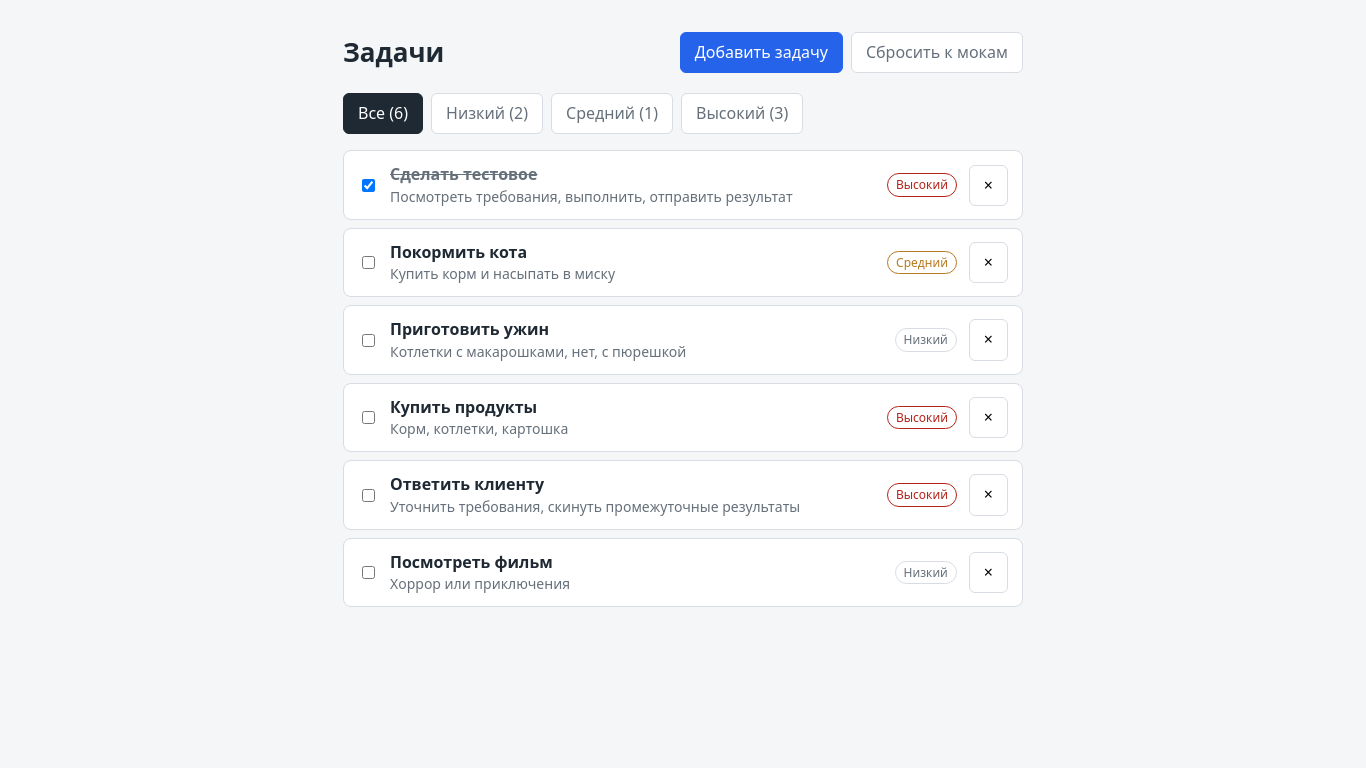
Scenario: App › показывает новую задачу в активном фильтре
Click the button "Высокий (3)".
click(742, 114)  # box [681,93,803,134]
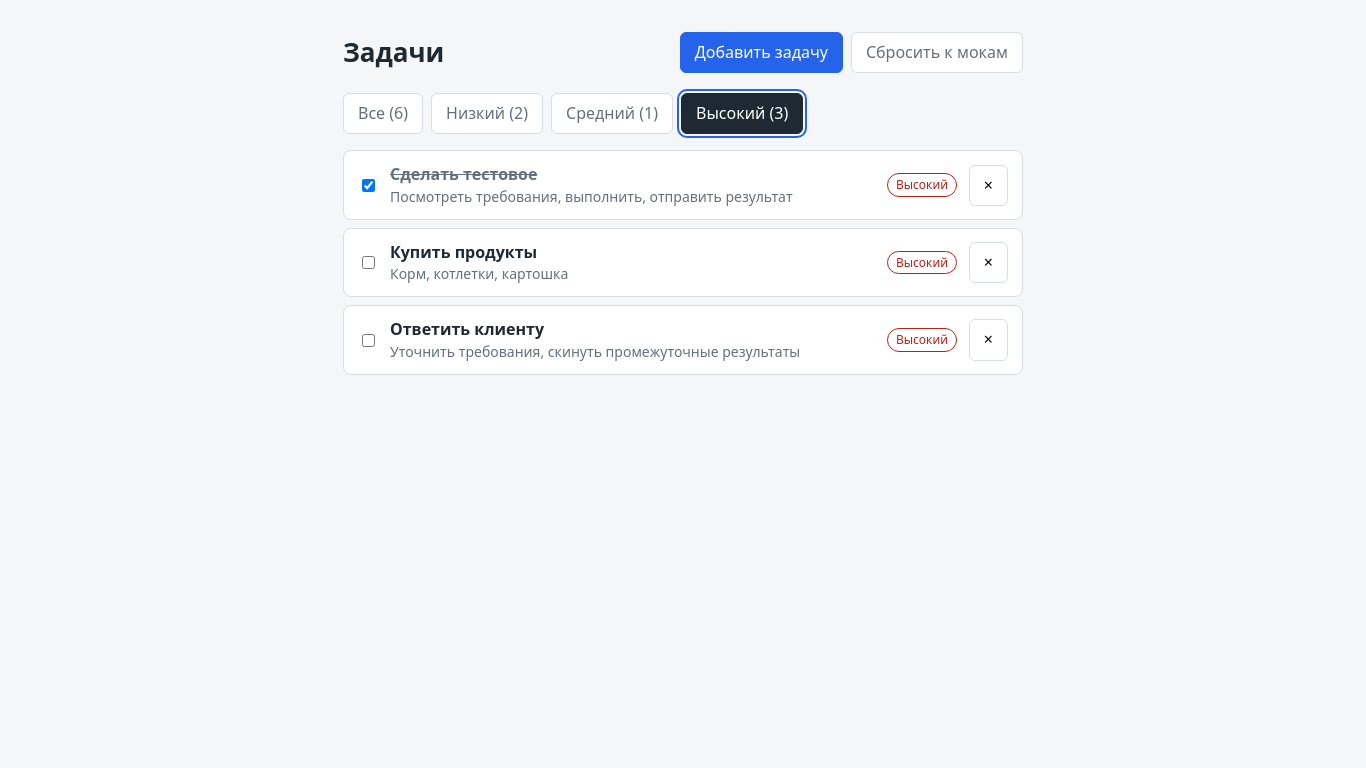
Click the button "Добавить задачу".
click(761, 53)  # box [680,32,843,73]
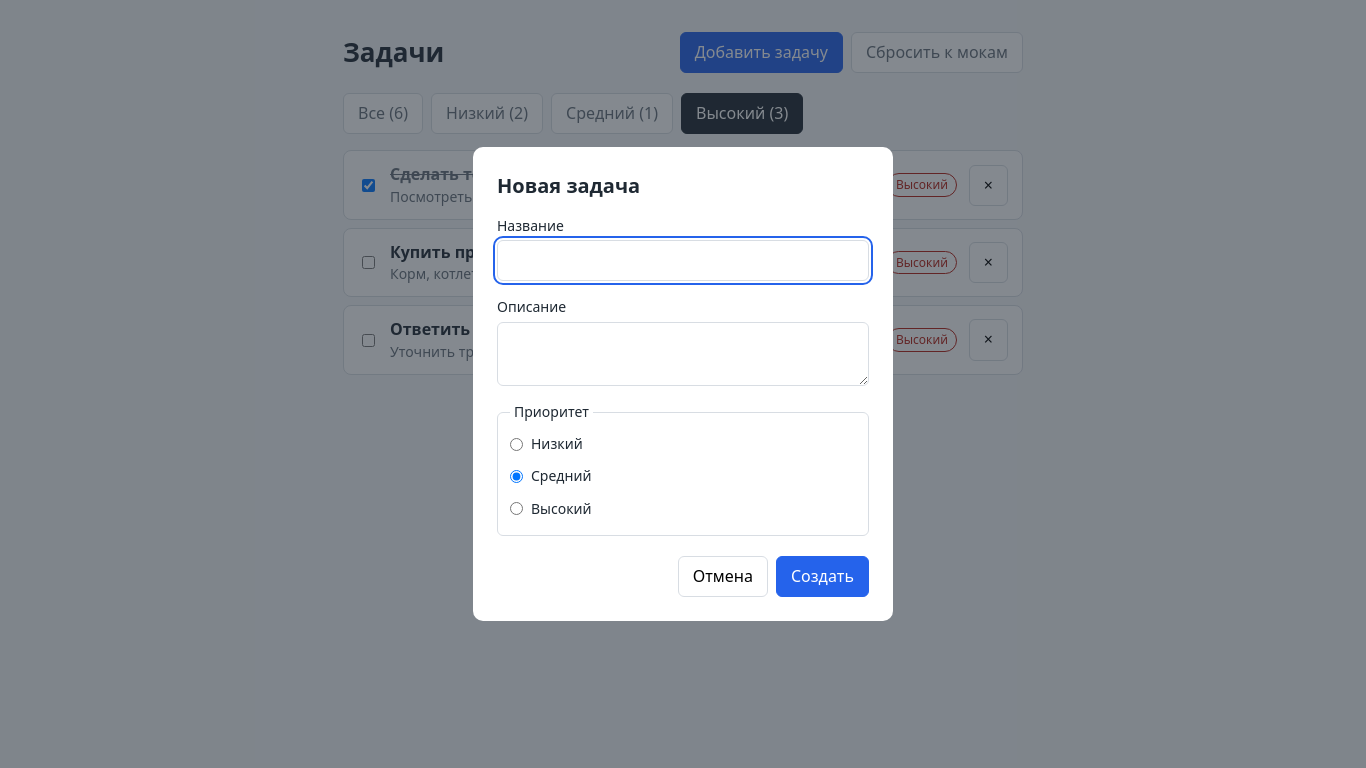
Type "Высокая задача" into the field labelled "Название".
click(683, 261); type("Высокая задача")  # box [497,240,869,281]
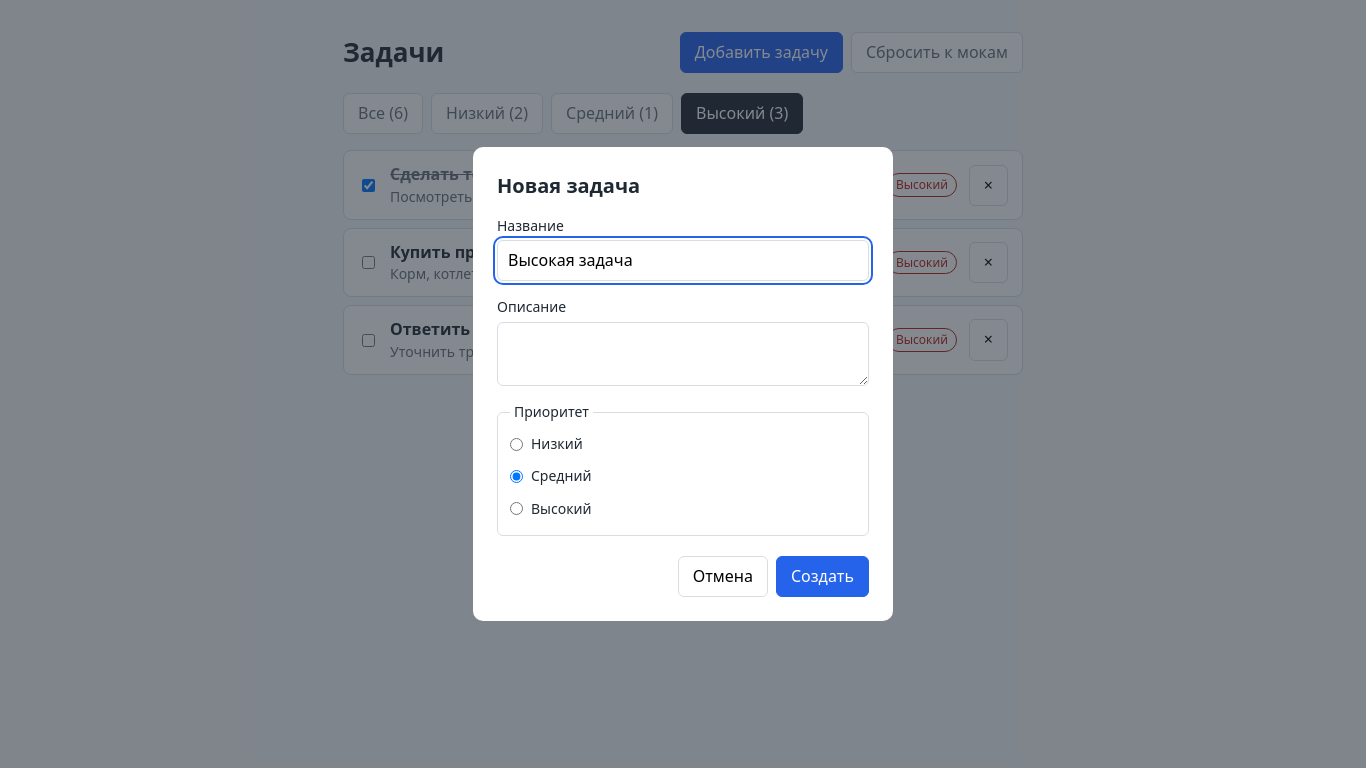
Type "Описание задачи" into the text box labelled "Описание".
click(683, 354); type("Описание задачи")  # box [497,322,869,386]
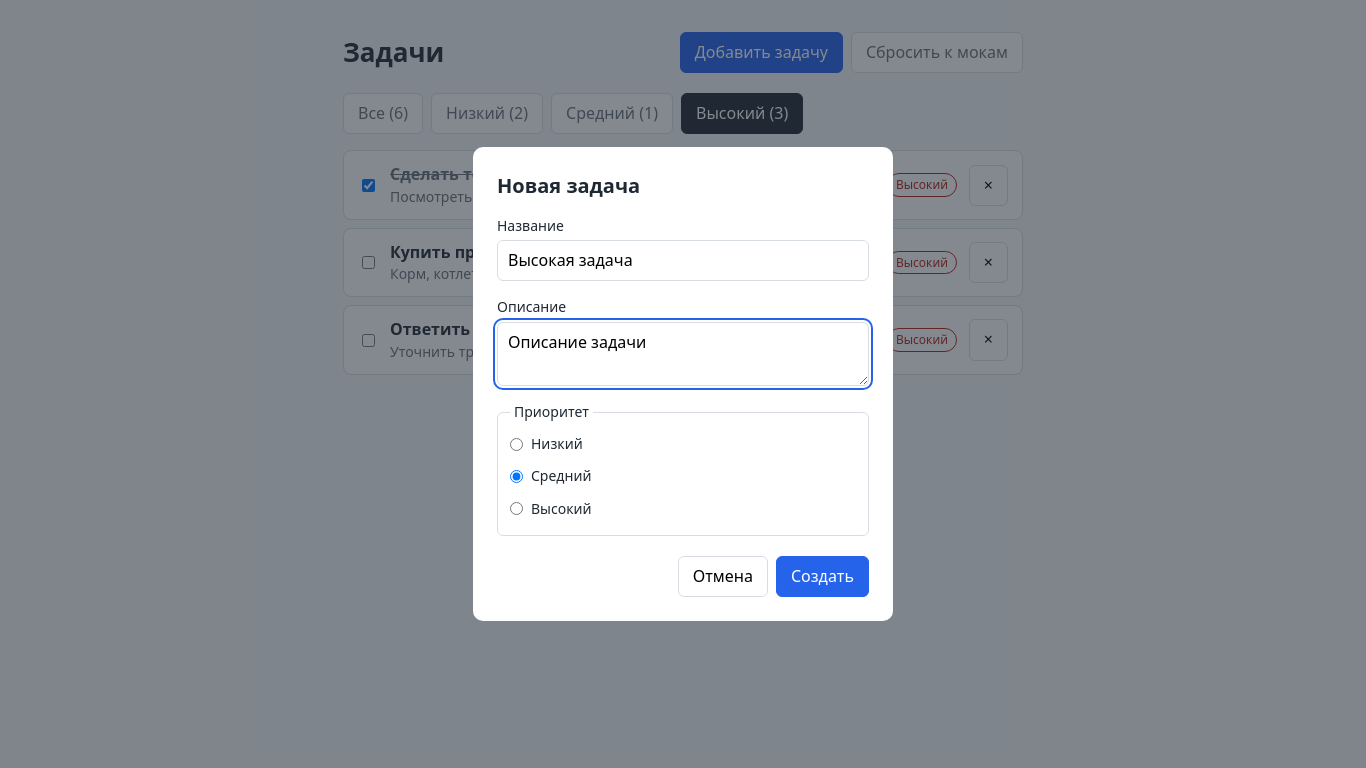
Click the radio button labelled "Высокий".
click(516, 509)  # box [510,502,523,515]
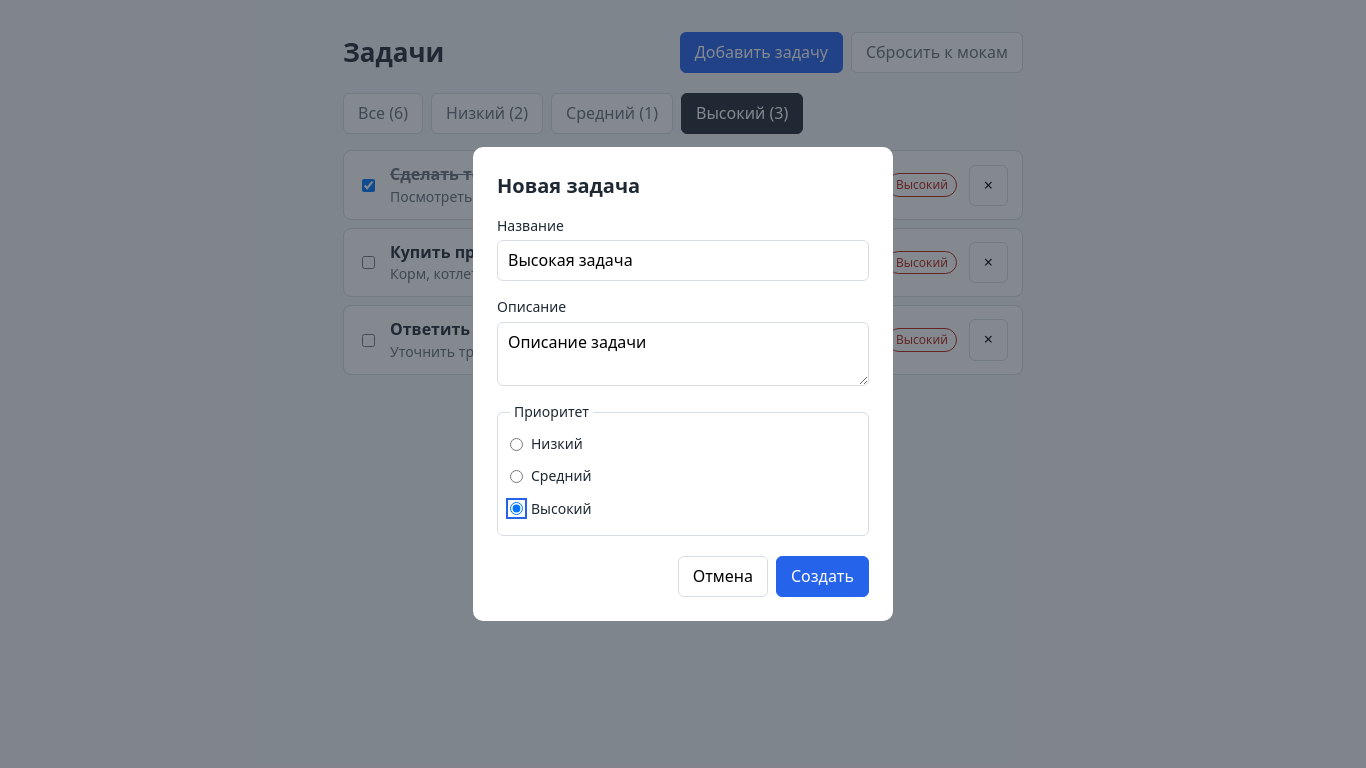
Click the button "Создать".
click(822, 577)  # box [776,556,869,597]
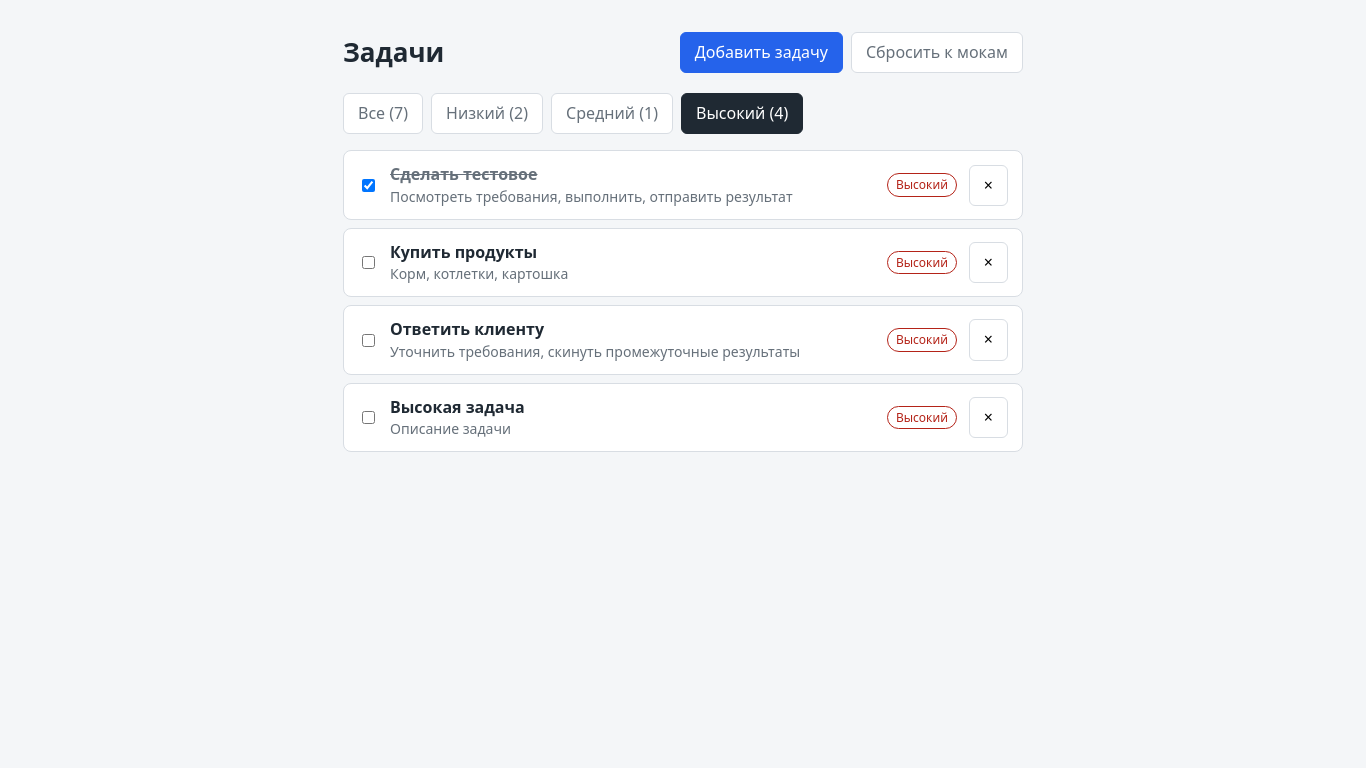
Expected: the text "Высокая задача" is shown, [390,396,525,418]
